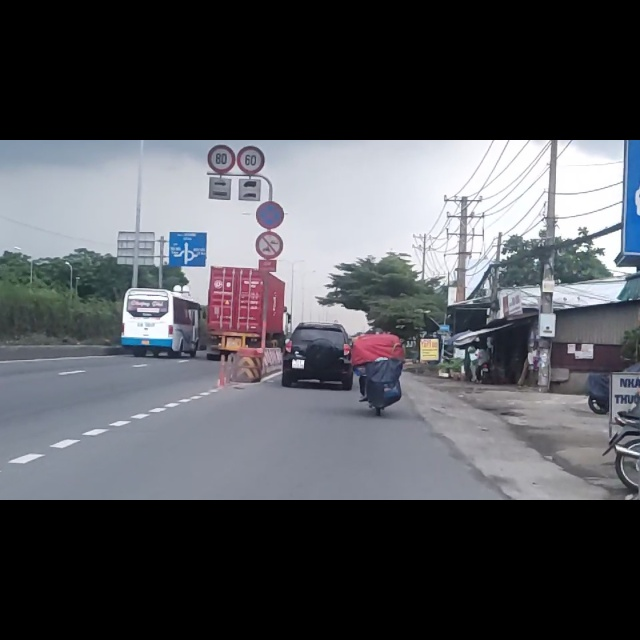bien_chi_dan: (255, 107, 285, 158), (255, 160, 285, 211), (207, 8, 235, 59), (237, 11, 265, 59)
